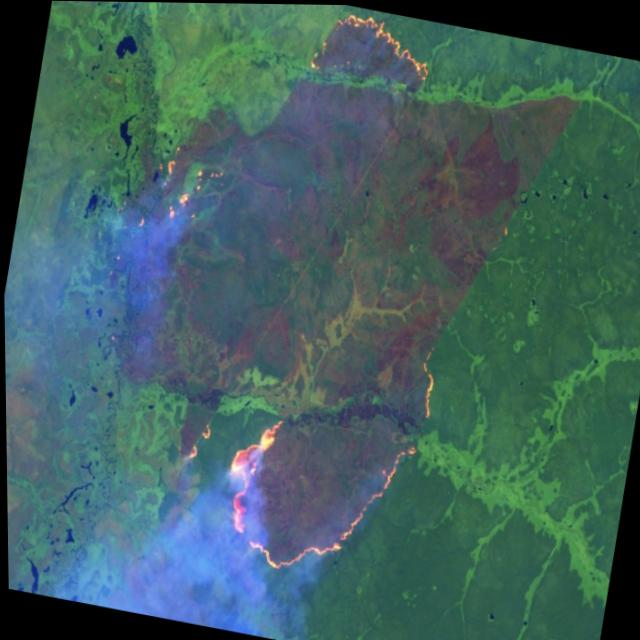fire: (156, 297, 445, 604), (298, 3, 461, 107), (127, 133, 221, 248)
